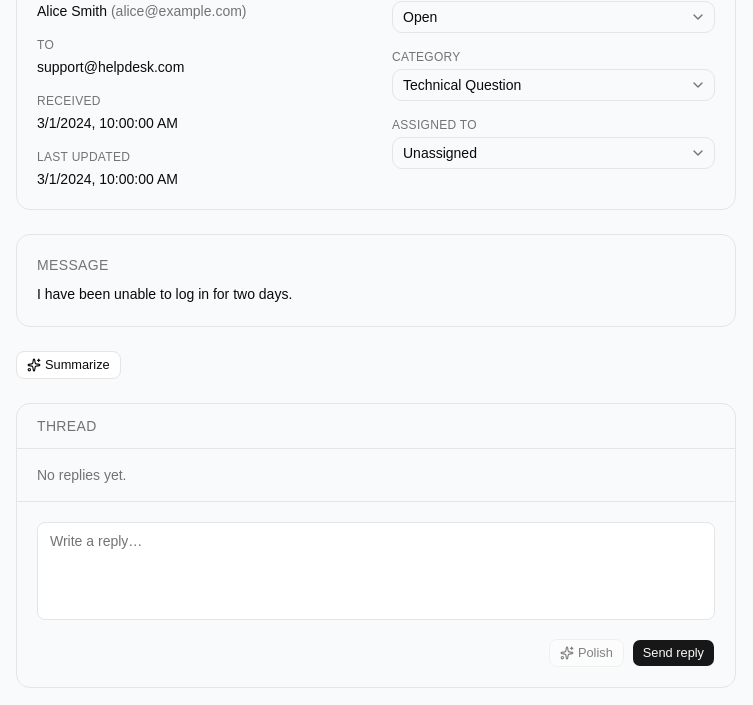
Test: TicketDetailPage › polish reply › replaces the textarea content with the polished text on success
This screenshot has width=753, height=705.
(page scrolled)
In the text box with placeholder "Write a reply…": (376,571) x1=37 y1=522 x2=715 y2=620, type "rough draft"
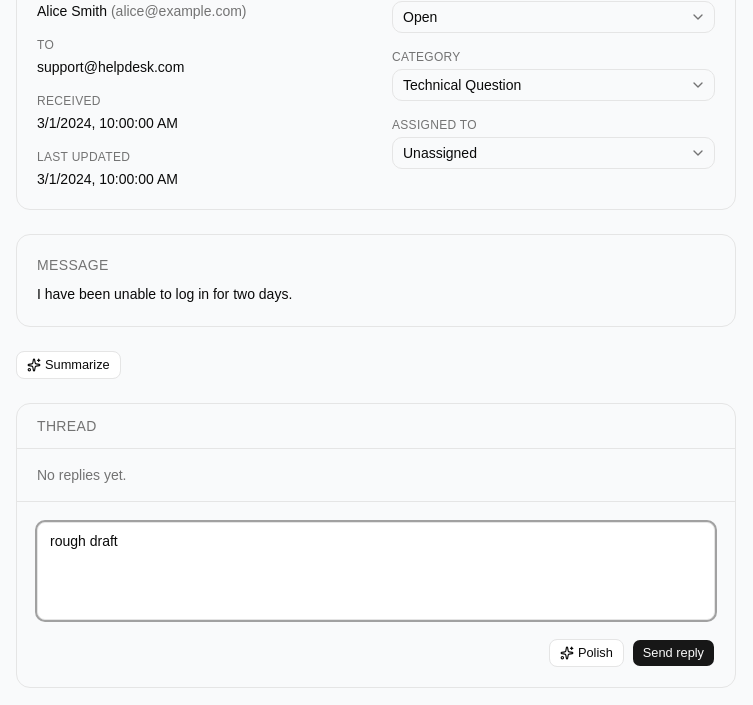
Click the button "Polish": (586,653) x1=549 y1=639 x2=624 y2=667
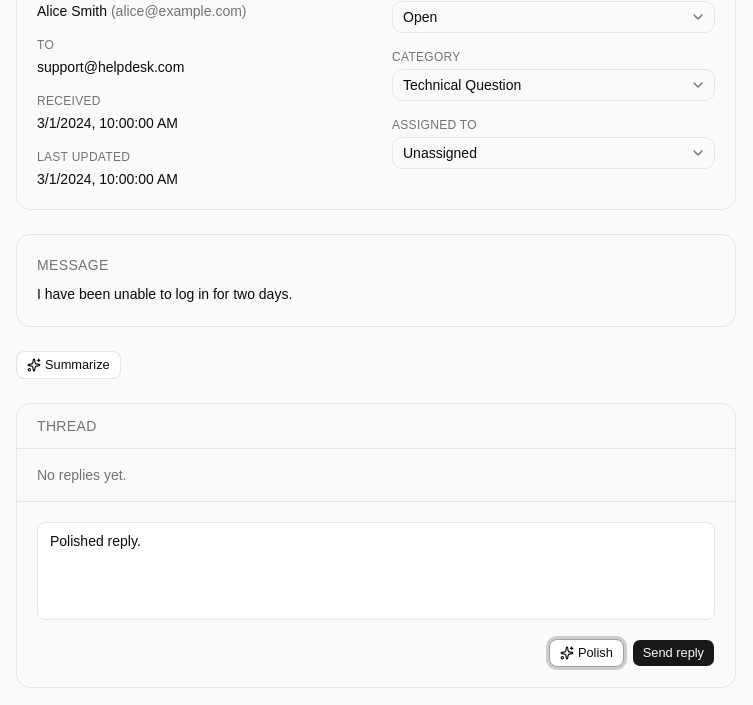
Expected: the text box with placeholder "Write a reply…" holds "Polished reply.", x1=37 y1=522 x2=715 y2=620
